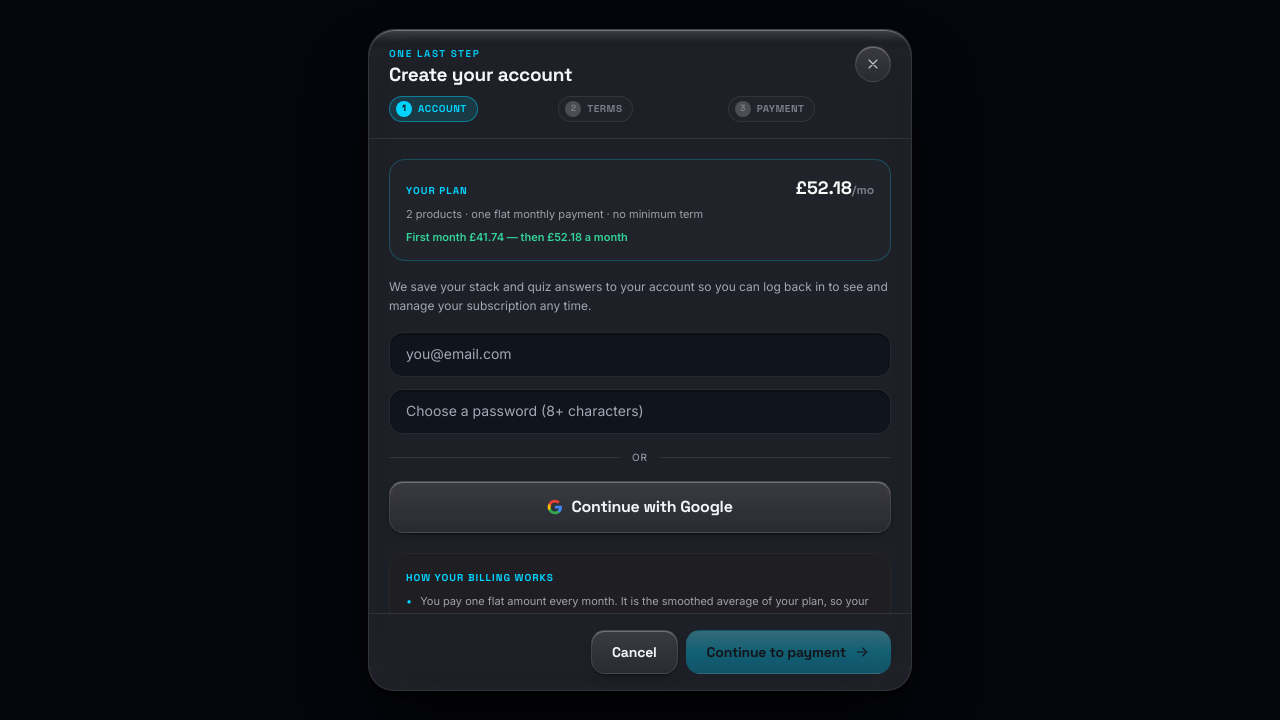
Test case: AccountGate sign-in with a provider › clears the complaint once the box is ticked
Click the button "Continue with Google": point(640, 506) x1=389 y1=480 x2=891 y2=532
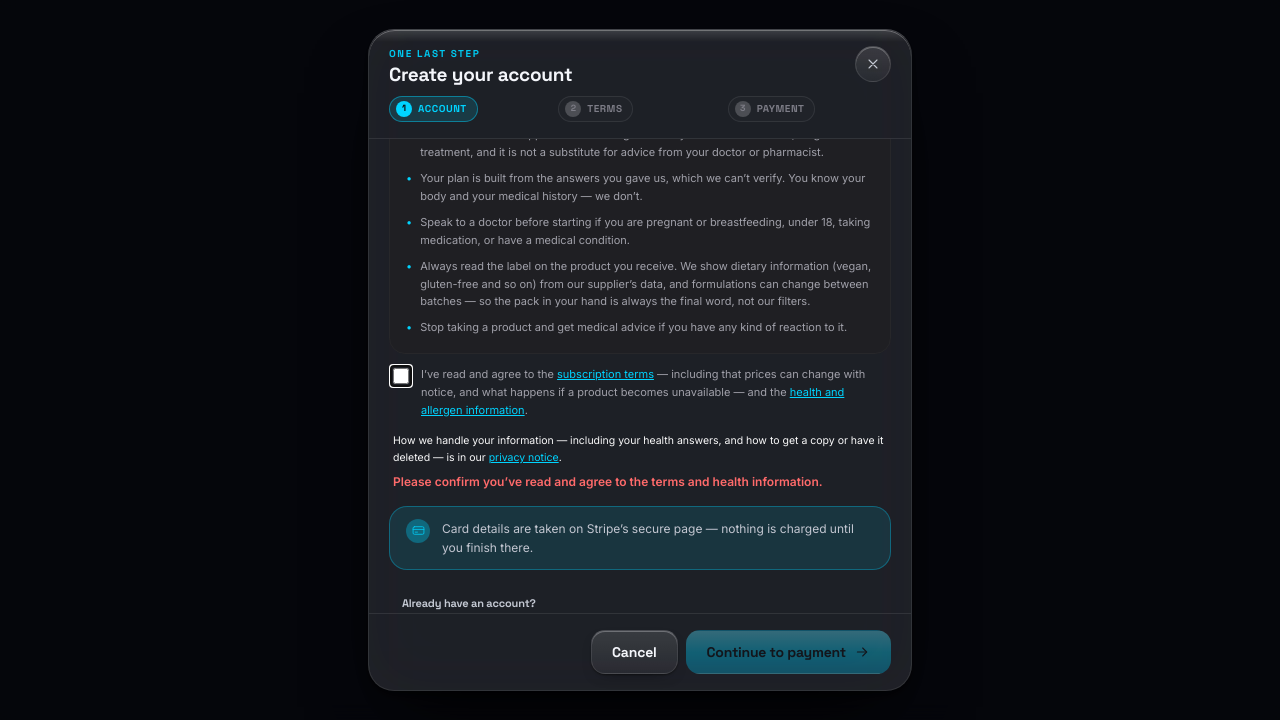
Click the checkbox: point(401, 376) x1=393 y1=368 x2=409 y2=384
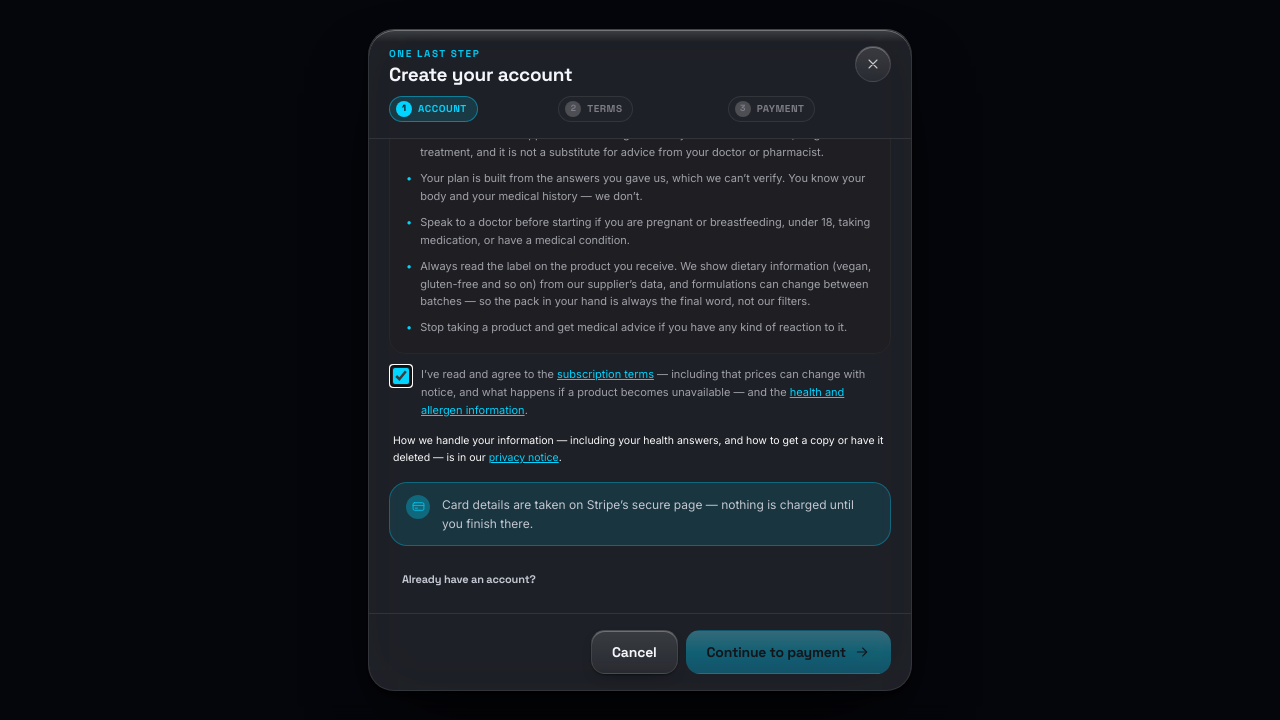
Expected: the text "read and agree to the terms" is gone
